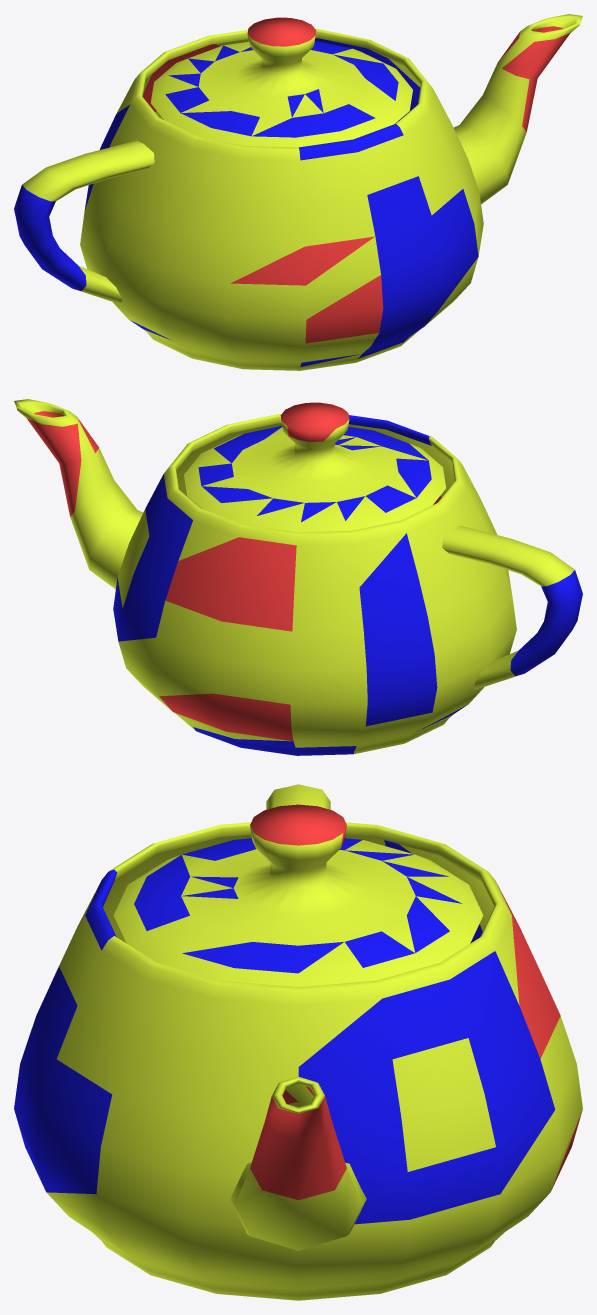
The picture shows the model from 3 angles, top to bottom: view 1: azimuth 30°, elevation 25°; view 2: azimuth 150°, elevation 25°; view 3: azimuth 270°, elevation 25°; orthographic projection. The views are drawn at different scales.
Visible parts, largest first — view 1: Teapot001; view 2: Teapot001; view 3: Teapot001.
Part boxes in pixels (x1,y1,x2,y2): Teapot001: (14,14,582,370); Teapot001: (14,399,582,755); Teapot001: (14,784,582,1300).
Bounding box in the file's own units: 4.03 × 1.97 × 2.51.
